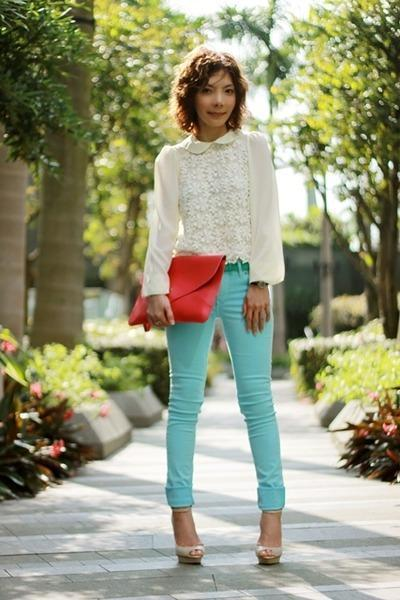bag: (126, 256, 225, 331)
pants: (159, 276, 284, 509)
shirt: (141, 129, 284, 299)
shoe: (176, 552, 282, 572)
